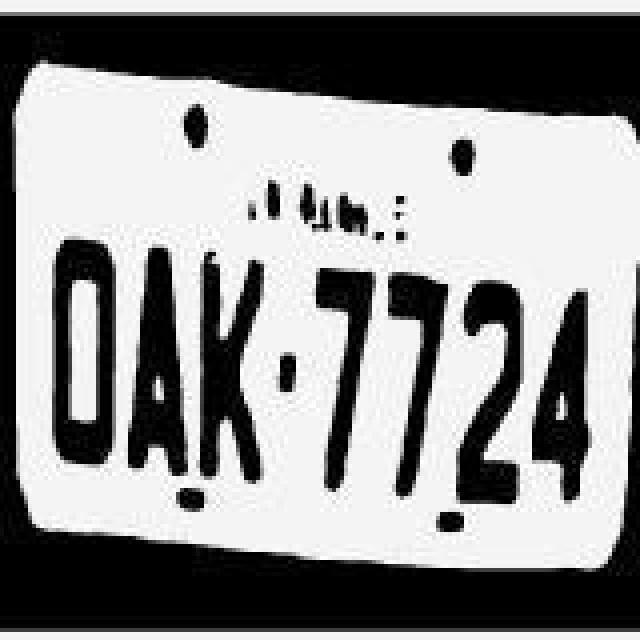2: (446, 274, 530, 510)
4: (520, 288, 600, 512)
7: (300, 262, 380, 498), (380, 268, 452, 500)
A: (126, 244, 194, 476)
K: (198, 238, 266, 482)
O: (48, 230, 120, 474)
